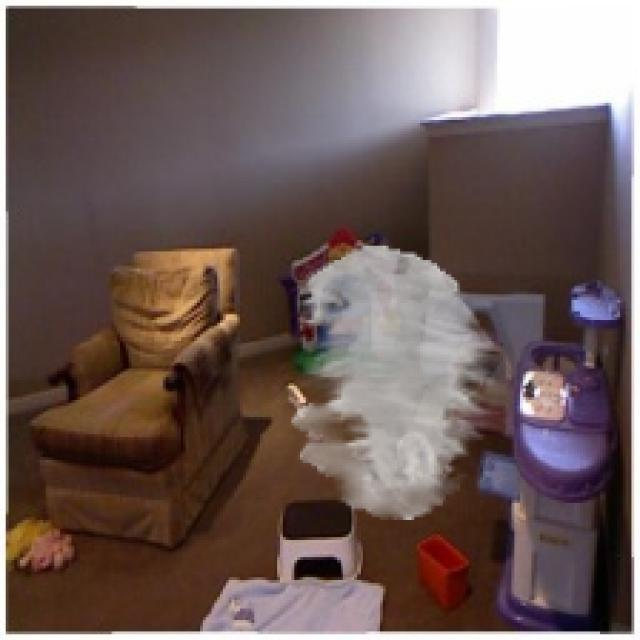Smoke: (292, 245, 497, 520)
